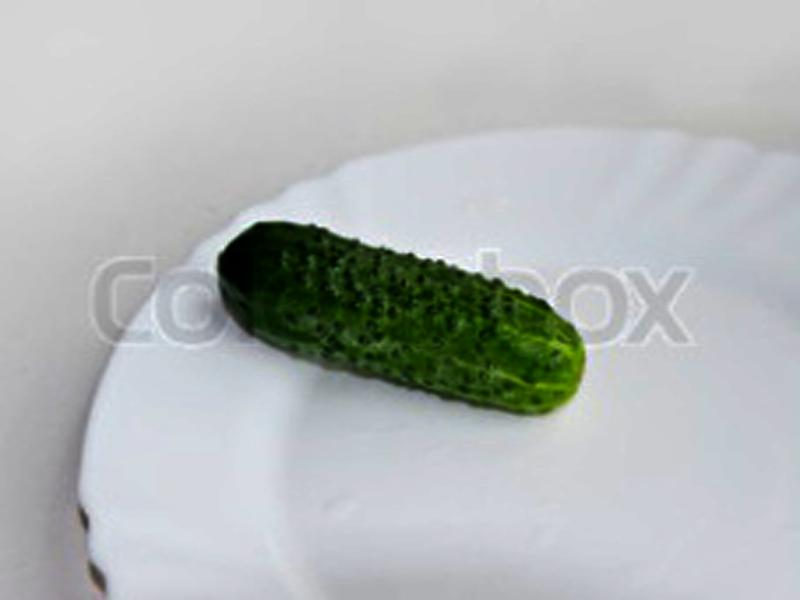Cucumber: (222, 222, 581, 415)
